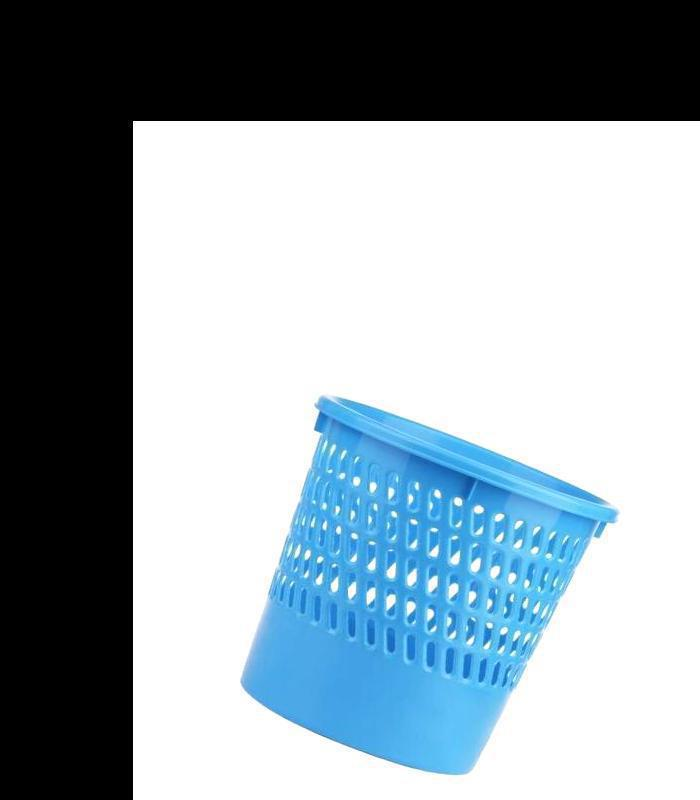Bote de Basura: (233, 393, 610, 783)
